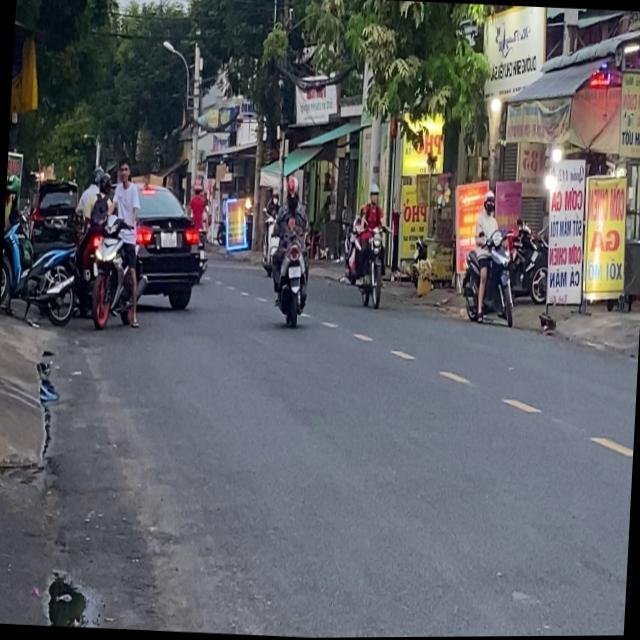helmet: (483, 191, 498, 217), (287, 175, 301, 202)
licenseplate: (460, 188, 523, 329), (270, 174, 318, 327)
